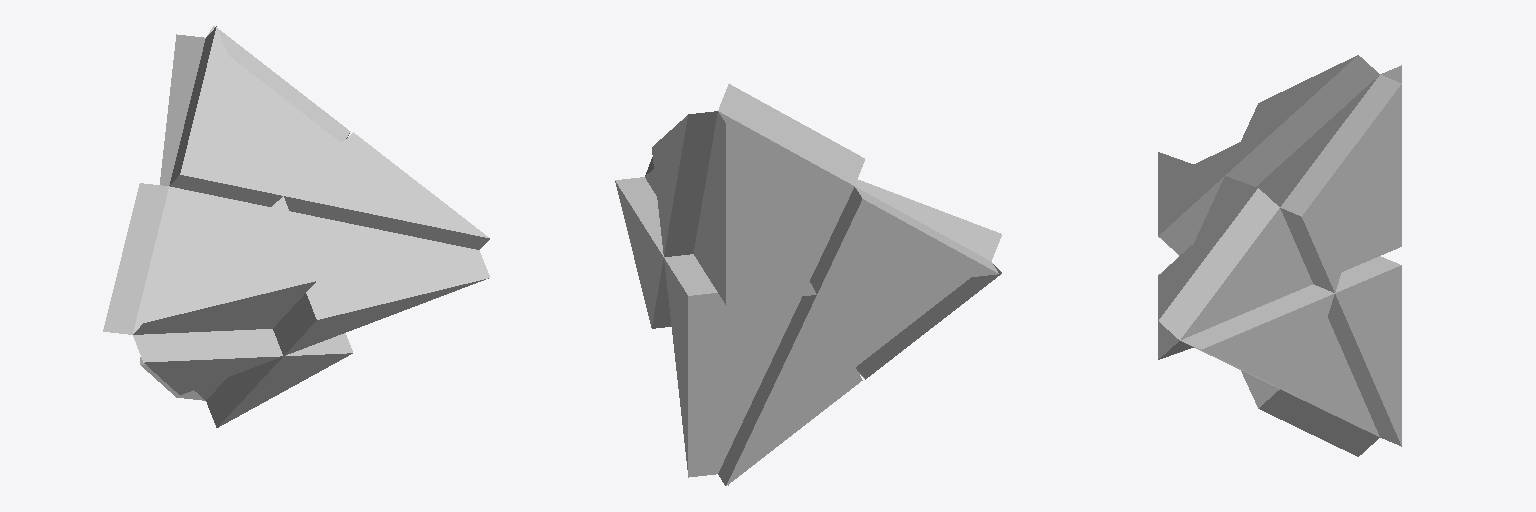
The model's file is tetrapline.obj.
The picture shows the model from 3 angles: view 1: azimuth 30°, elevation 25°; view 2: azimuth 150°, elevation 25°; view 3: azimuth 270°, elevation 25°; orthographic projection.
Visible parts, largest first — view 1: Cube.002_Cube; view 2: Cube.002_Cube; view 3: Cube.002_Cube.
Part boxes in pixels (left/top/right/bottom): Cube.002_Cube: left=103, top=26, right=489, bottom=427; Cube.002_Cube: left=615, top=84, right=1001, bottom=485; Cube.002_Cube: left=1158, top=55, right=1401, bottom=456.
Bounding box in the file's own units: 3.64 × 3.64 × 2.